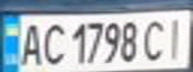1: (66, 18, 87, 64)
7: (84, 18, 106, 64)
8: (118, 17, 142, 63)
9: (103, 18, 124, 64)
A: (15, 19, 45, 67)
C: (139, 16, 172, 63), (39, 19, 69, 66)
I: (160, 14, 193, 61)
